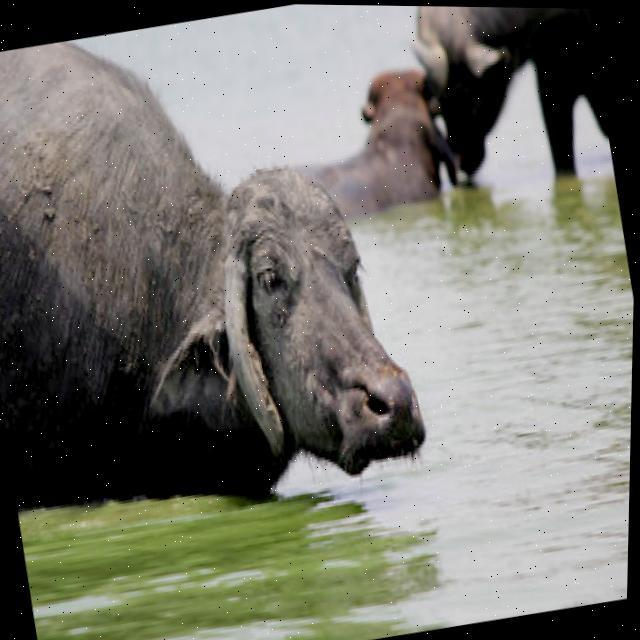Buffalo: (0, 0, 443, 545)
